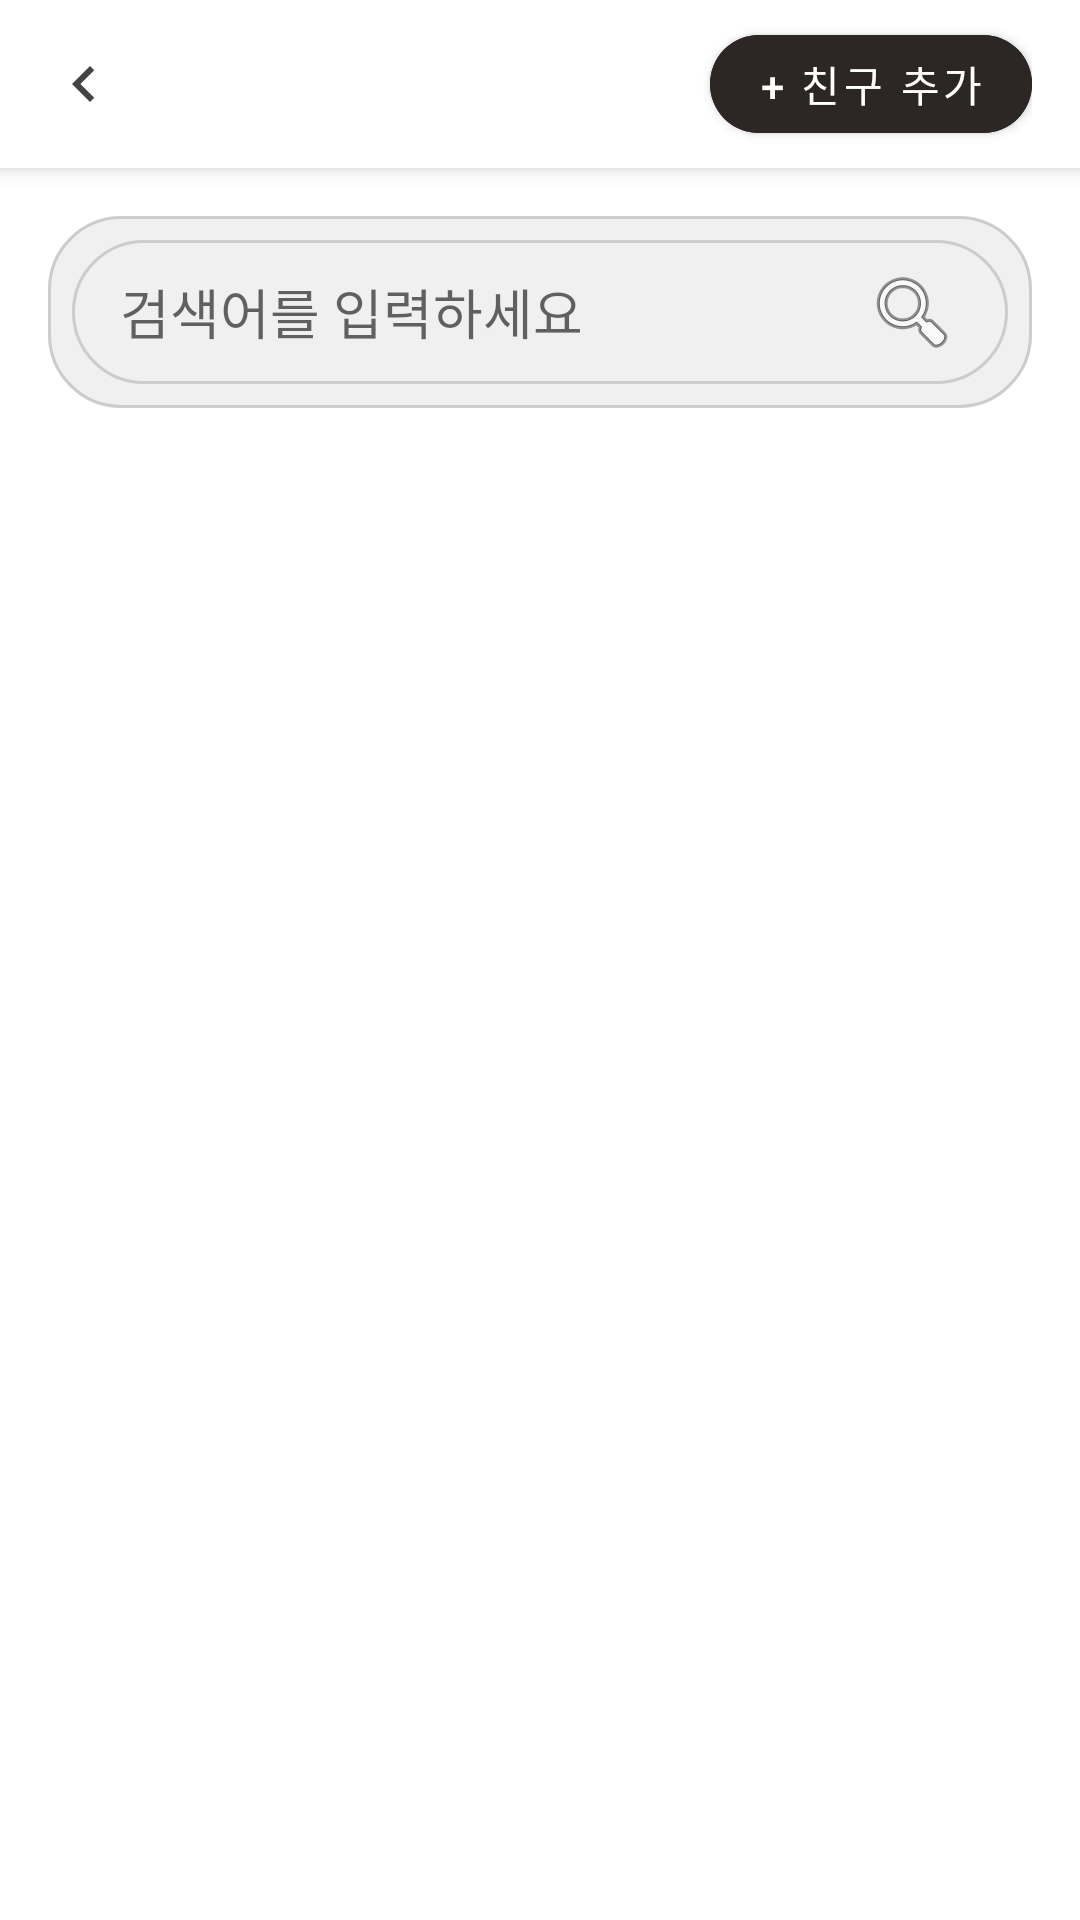

Icons on this 1080 x 1920 Android screen, each with its box as (x1, y1, x2, y2):
뒤로가기: (72, 66, 94, 102)
